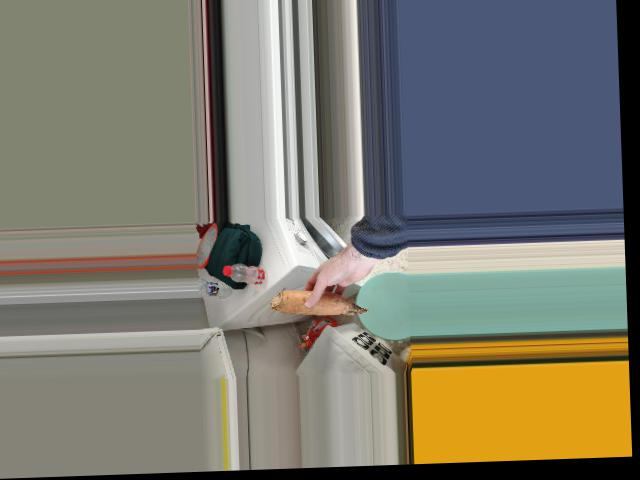sweet_potato: (276, 288, 366, 316)
